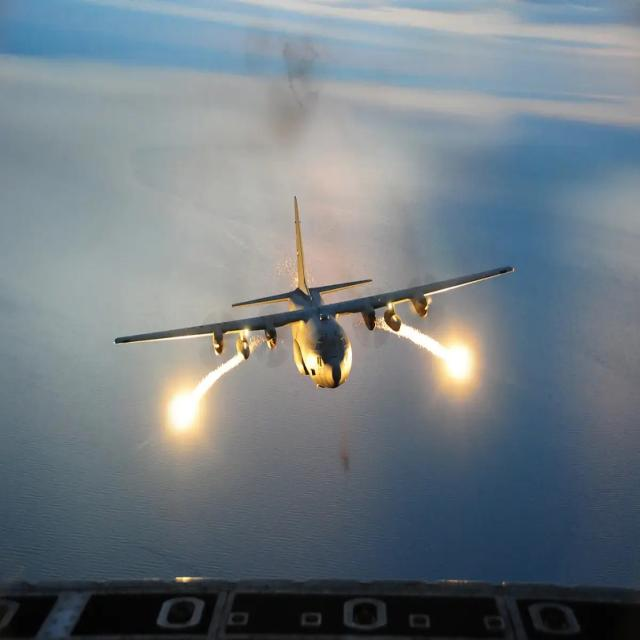MIL_Plane: (274, 195, 355, 388)
